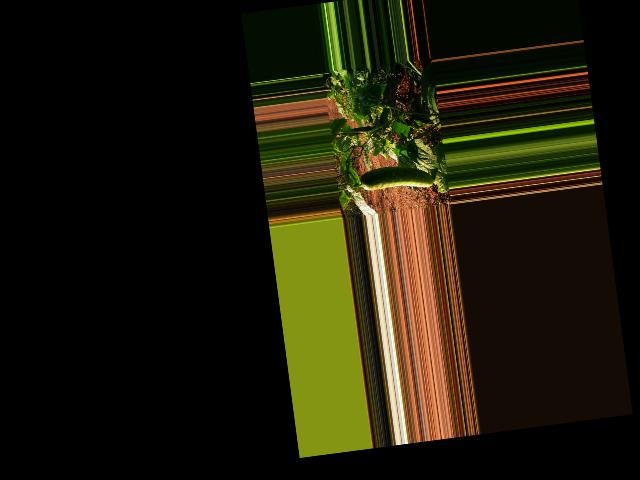cucumber: (359, 161, 434, 195)
